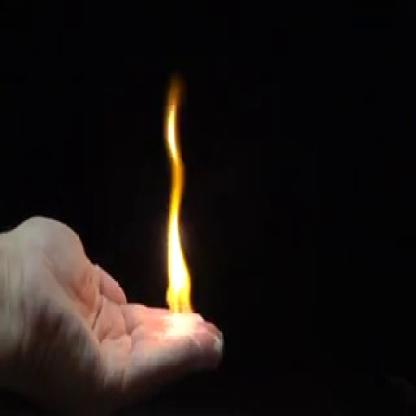fire: (162, 106, 201, 340)
